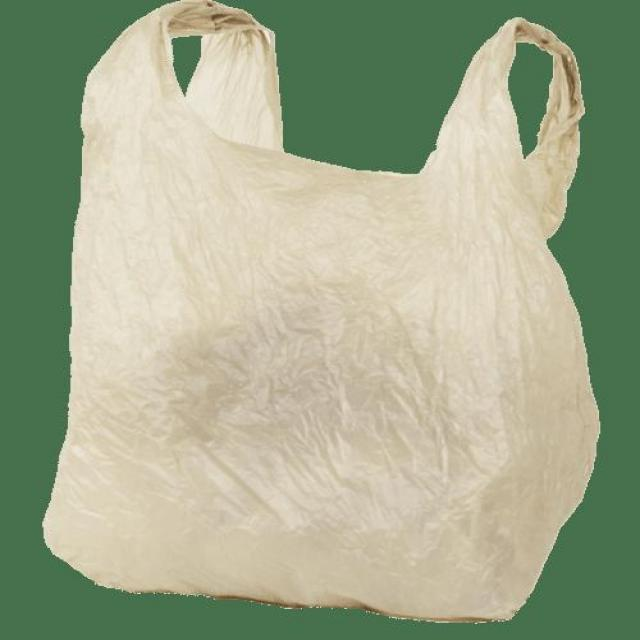plastic_bag: (64, 3, 591, 609)
